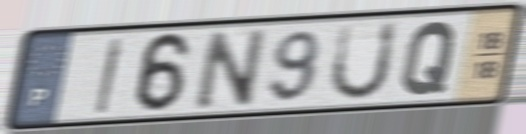6: (132, 29, 195, 117)
9: (264, 27, 329, 104)
I: (92, 35, 128, 116)
N: (193, 25, 270, 113)
Q: (398, 18, 461, 98)
U: (326, 19, 401, 104)
